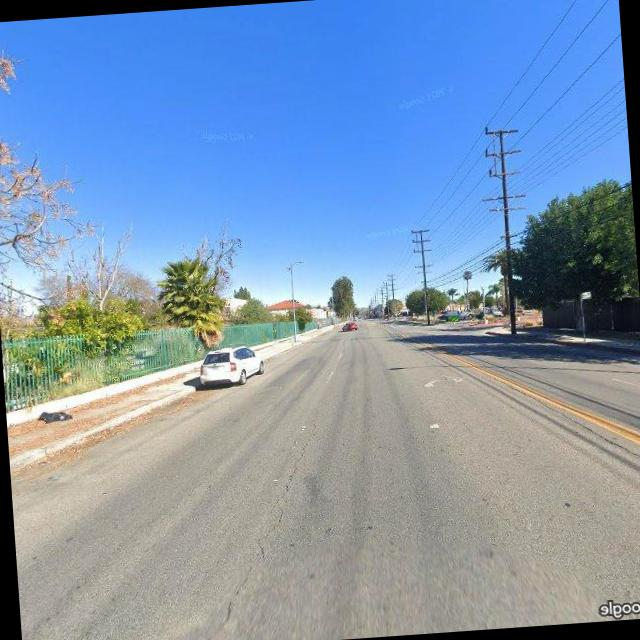crack: (189, 406, 339, 640)
